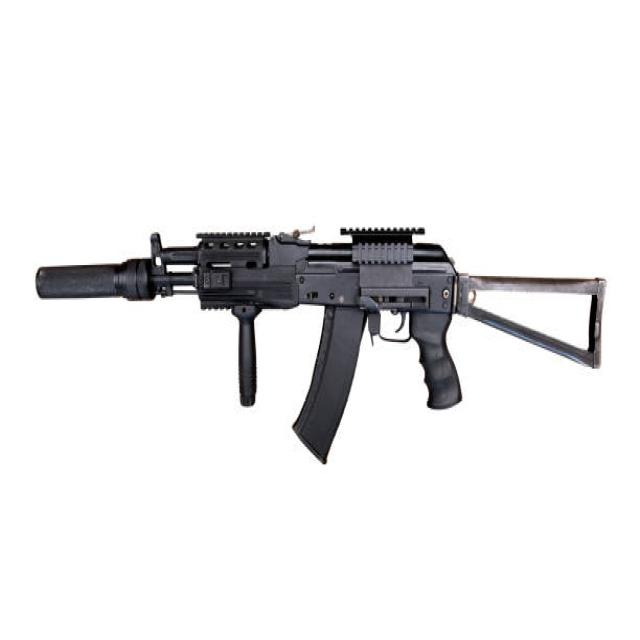rifle: (35, 215, 609, 493)
